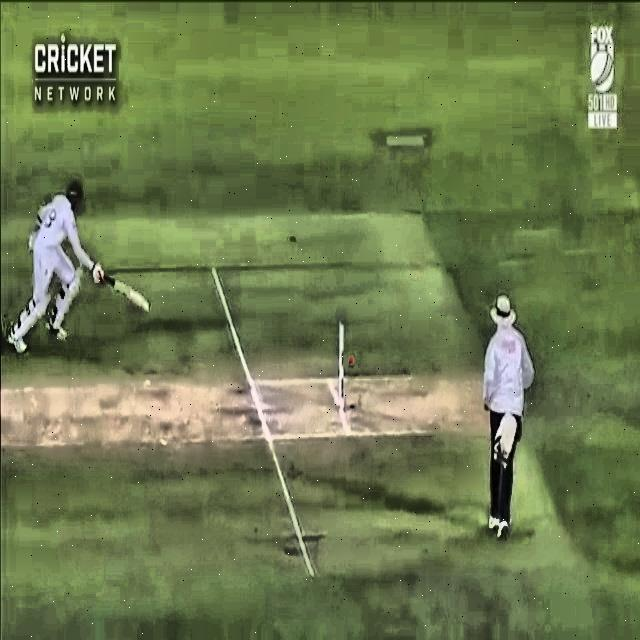Bat: (80, 257, 153, 316)
Pitch_Line: (208, 264, 313, 579)
Undis_Wicket: (323, 314, 352, 429)
